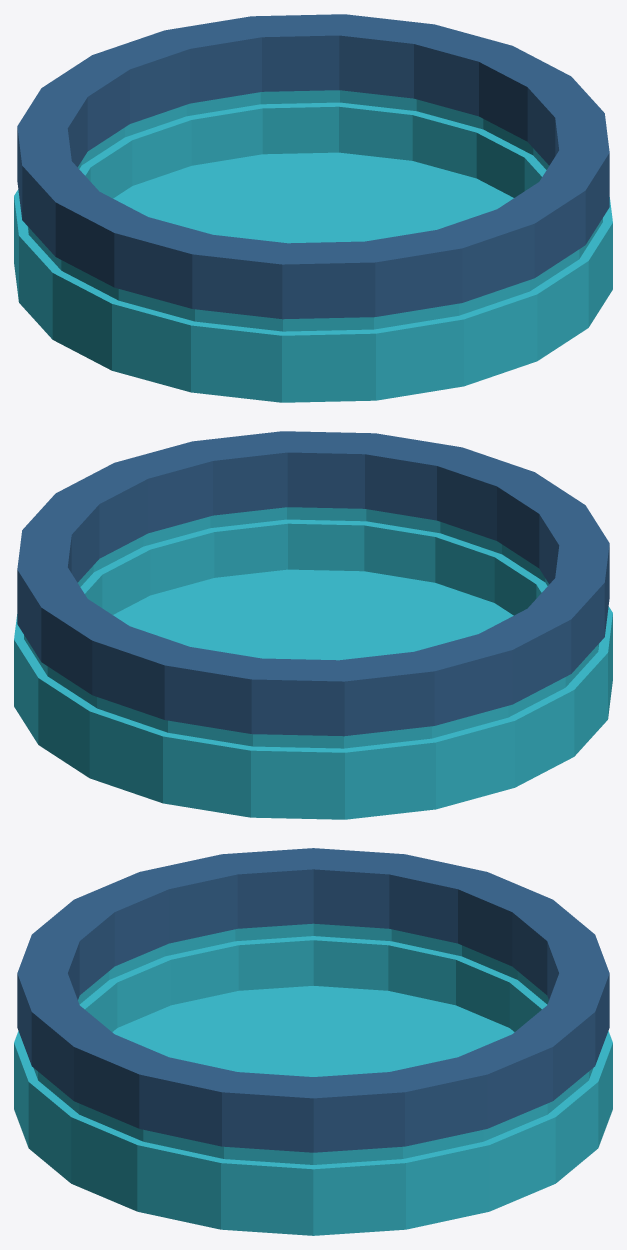
The model's file is Swimmingpool.fbx.
3 views of the same model, one above another, from view 1: azimuth 30°, elevation 25°; view 2: azimuth 150°, elevation 25°; view 3: azimuth 270°, elevation 25° (orthographic).
Parts seen in each view (by area): view 1: Cylinder; view 2: Cylinder; view 3: Cylinder.
Part boxes in pixels (<box>): Cylinder: <box>14,14,612,402</box>; Cylinder: <box>14,431,612,819</box>; Cylinder: <box>14,848,612,1235</box>.
Bounding box in the file's own units: 200 × 50.14 × 200.
1 material, 1 textured.
